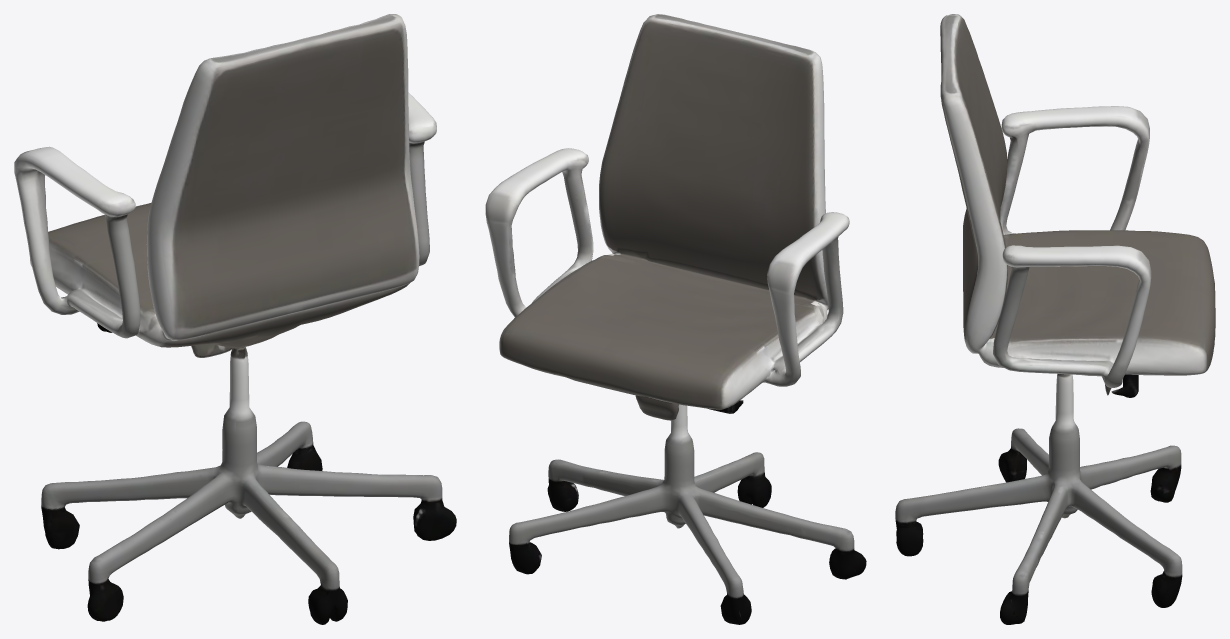
Rendered from chair.glb.
The picture shows the model from 3 angles, left to right: view 1: azimuth 30°, elevation 25°; view 2: azimuth 150°, elevation 25°; view 3: azimuth 270°, elevation 25°; orthographic projection. The views are drawn at different scales.
Parts seen in each view (by area): view 1: chair; view 2: chair; view 3: chair.
Part boxes in pixels (x1,y1,x2,y2): chair: (14, 14, 456, 624); chair: (485, 14, 866, 624); chair: (895, 14, 1215, 624).
Bounding box in the file's own units: 0.6919 × 1.02 × 0.5935.
1 material, 1 textured.
